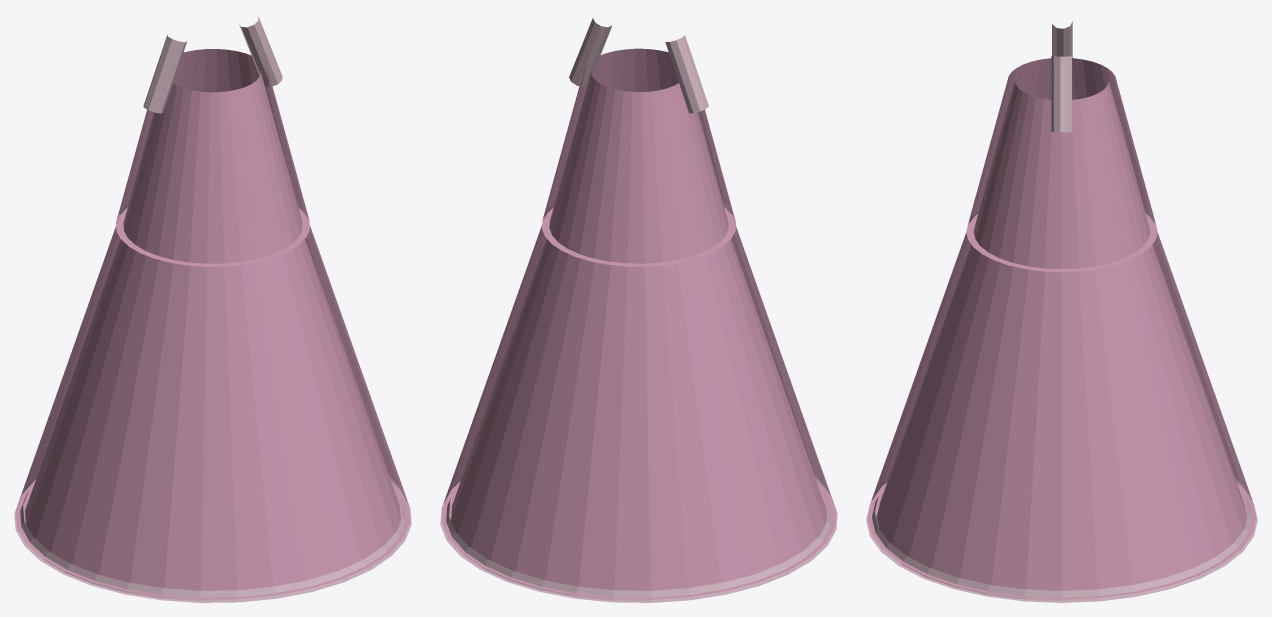
The model's file is vestido_rosa.glb.
3 views of the same model, side by side, from view 1: azimuth 30°, elevation 25°; view 2: azimuth 150°, elevation 25°; view 3: azimuth 270°, elevation 25° (orthographic).
Visible parts, largest first — view 1: saia_rodada, corpete, barra, alcinha-0.0011, alcinha0.0011; view 2: saia_rodada, corpete, barra, alcinha-0.0011, alcinha0.0011; view 3: saia_rodada, corpete, barra, alcinha0.0011, alcinha-0.0011.
Part boxes in pixels (box(x1,y1,x2,y2)): saia_rodada: box(15, 202, 410, 599); corpete: box(116, 49, 309, 266); barra: box(14, 475, 411, 602); alcinha-0.0011: box(143, 35, 186, 113); alcinha0.0011: box(239, 16, 282, 86); saia_rodada: box(441, 202, 836, 599); corpete: box(542, 48, 735, 266); barra: box(440, 475, 837, 602); alcinha-0.0011: box(665, 35, 708, 113); alcinha0.0011: box(569, 18, 611, 86); saia_rodada: box(867, 209, 1256, 599); corpete: box(966, 58, 1157, 272); barra: box(866, 478, 1257, 602); alcinha0.0011: box(1051, 56, 1071, 132); alcinha-0.0011: box(1052, 21, 1072, 57).
Size of the model in its own units: 0.00634 by 0.00866 by 0.00634.
